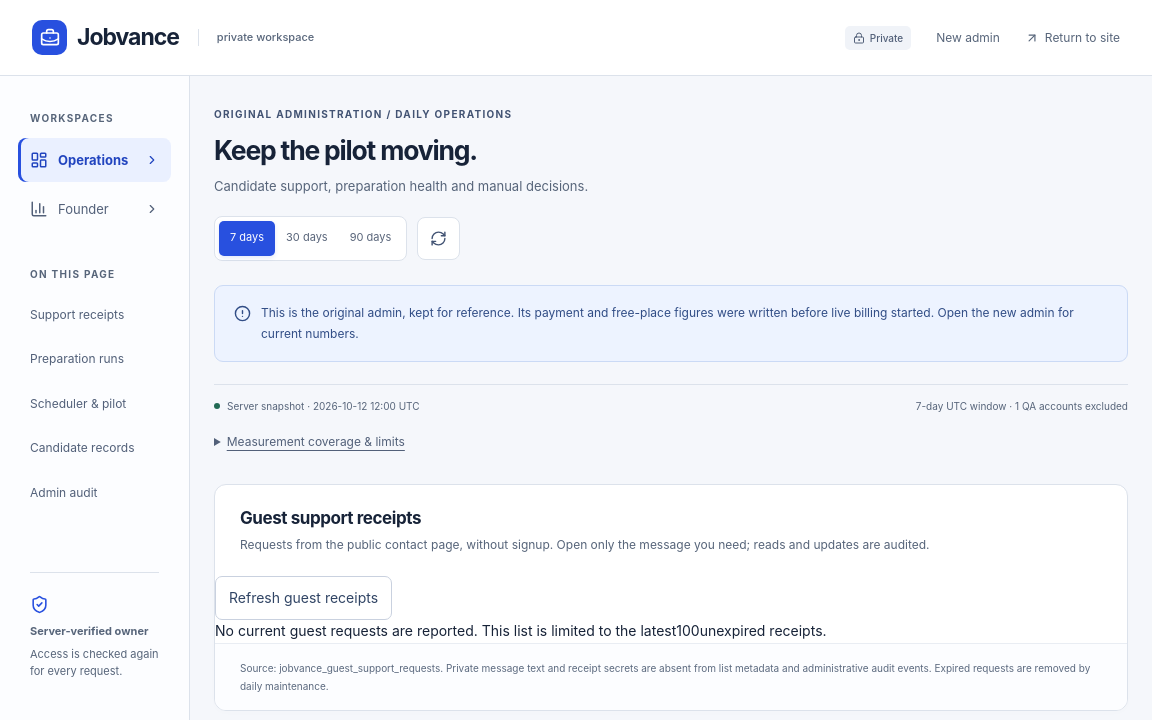
Test: private owner portals › preserves the selected range between workspaces and refreshes its evidence
What coordinates should you click on to do the following:
click the button "90 days"
I would click on:
 (370, 238)
Its box is [339,220,402,256].
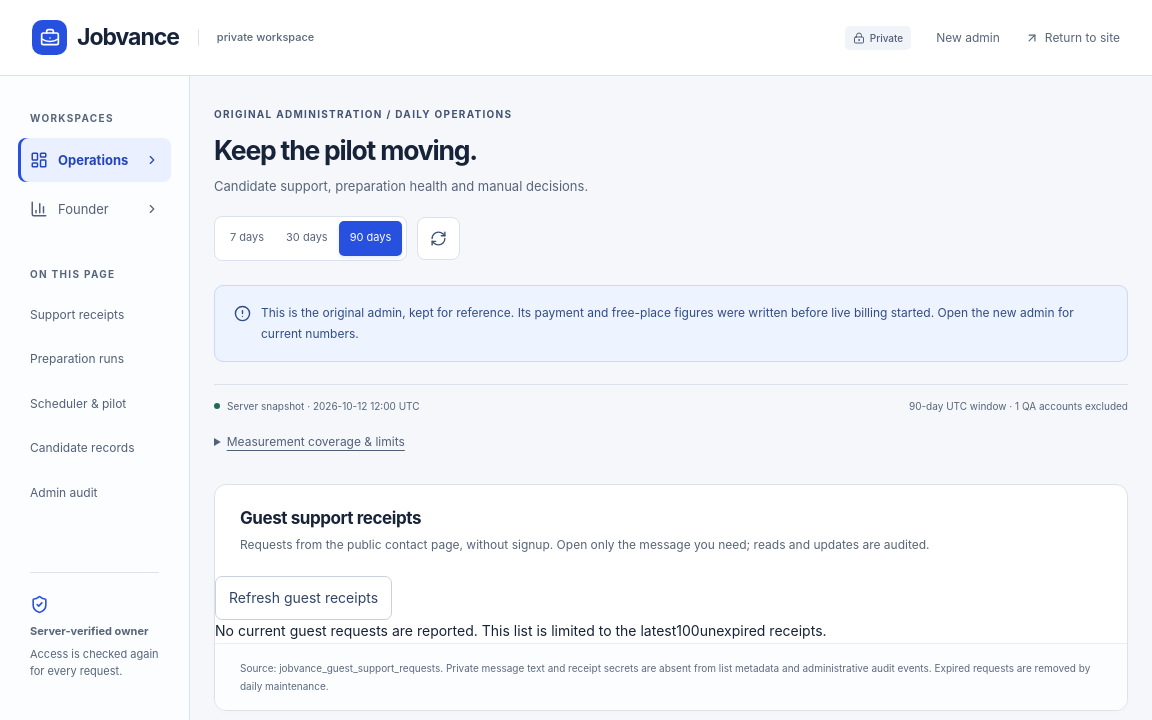
expect the button "90 days" is pressed: met, box [339,220,402,256]
What coordinates should you click on to do the following:
click the link "Founder"
I would click on:
 (94, 209)
Its box is [30,200,159,218].
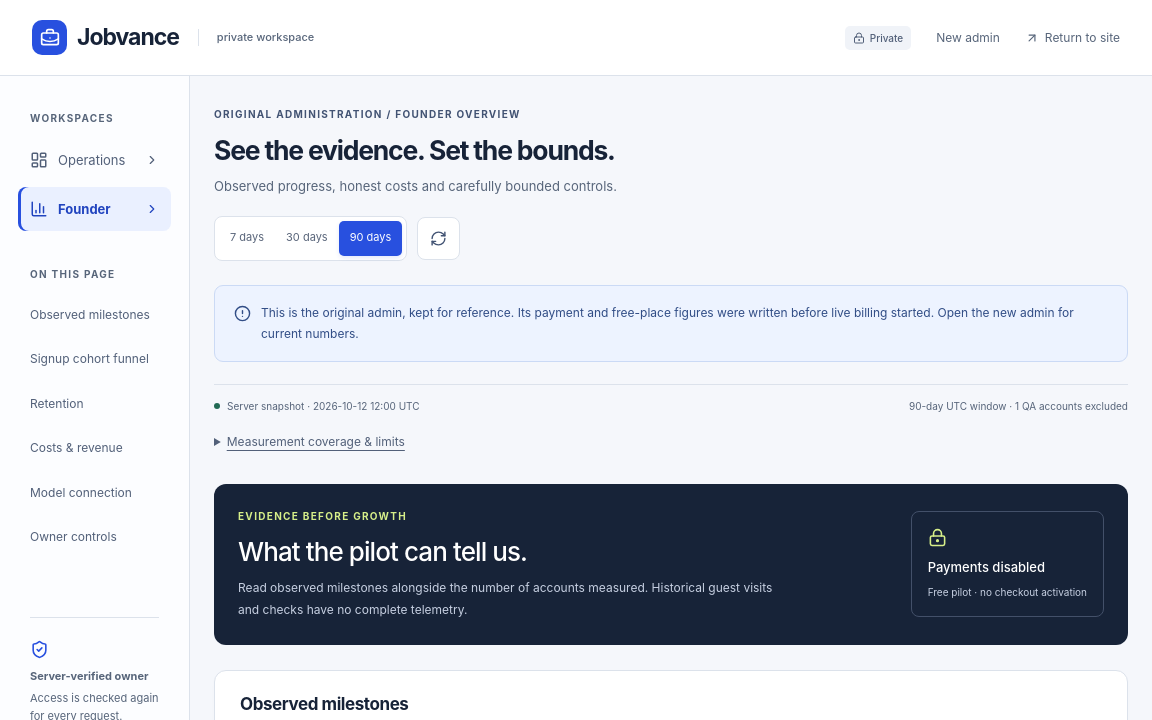
expect the heading "Observed milestones" is shown: met, box [240,694,408,714]
